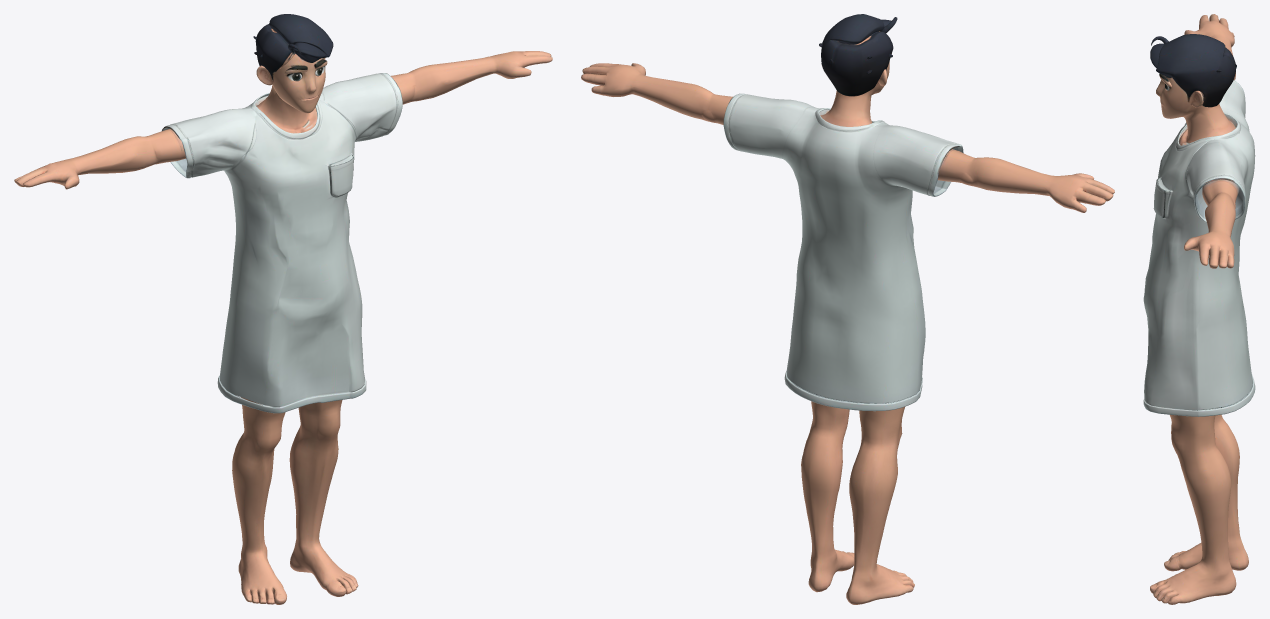
Rendered from toonstudio_patient.glb.
3 views of the same model, side by side, from view 1: azimuth 30°, elevation 25°; view 2: azimuth 150°, elevation 25°; view 3: azimuth 270°, elevation 25° (orthographic). The views are drawn at different scales.
Visible parts, largest first — view 1: tripo_840af1fe_bcf6_4d08_a4ac_f57db87fcd62; view 2: tripo_840af1fe_bcf6_4d08_a4ac_f57db87fcd62; view 3: tripo_840af1fe_bcf6_4d08_a4ac_f57db87fcd62.
Part boxes in pixels (x1,y1,x2,y2): tripo_840af1fe_bcf6_4d08_a4ac_f57db87fcd62: (14,14,552,604); tripo_840af1fe_bcf6_4d08_a4ac_f57db87fcd62: (581,14,1114,604); tripo_840af1fe_bcf6_4d08_a4ac_f57db87fcd62: (1143,14,1255,604).
Size of the model in its own units: 1.67 by 1.7 by 0.3164.
1 material, 1 textured.
